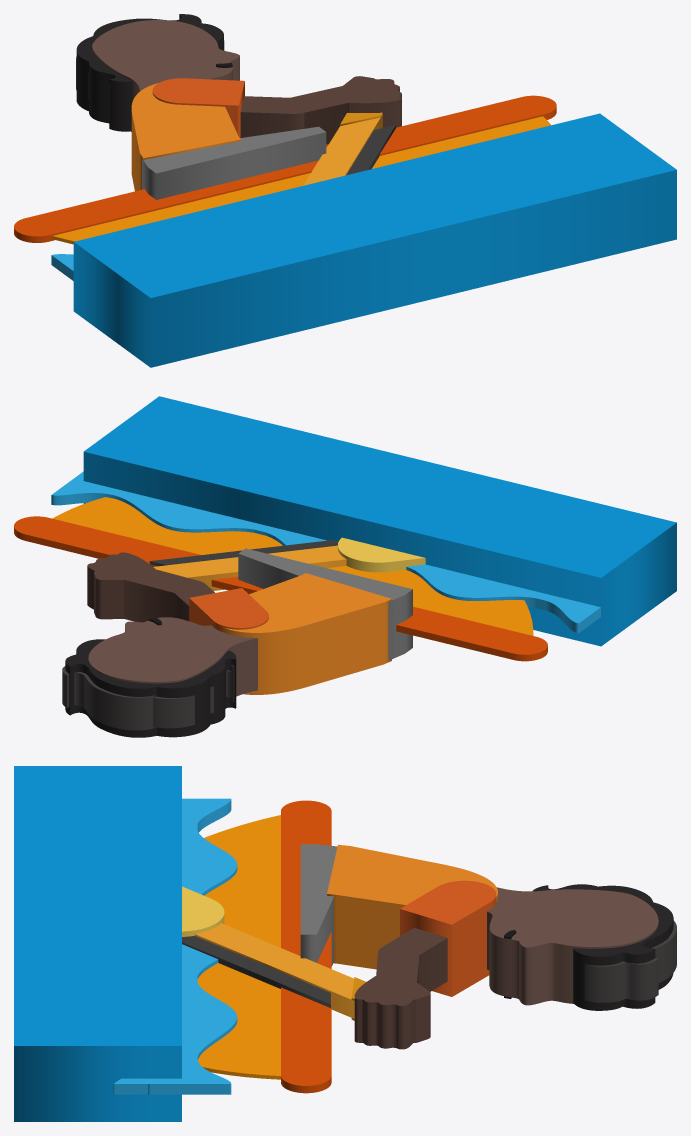
The model's file is emoji_u1f6a3_1f3ff.glb.
3 views of the same model, one above another, from view 1: azimuth 30°, elevation 25°; view 2: azimuth 150°, elevation 25°; view 3: azimuth 270°, elevation 25° (orthographic). The views are drawn at different scales.
Parts seen in each view (by area): view 1: emoji_u1f6a3_1f3ff; view 2: emoji_u1f6a3_1f3ff; view 3: emoji_u1f6a3_1f3ff.
Part boxes in pixels (x1,y1,x2,y2): emoji_u1f6a3_1f3ff: (14, 14, 676, 367); emoji_u1f6a3_1f3ff: (14, 396, 676, 737); emoji_u1f6a3_1f3ff: (14, 766, 676, 1121).
Bounding box in the file's own units: 0.0339 × 0.0042 × 0.0332.
